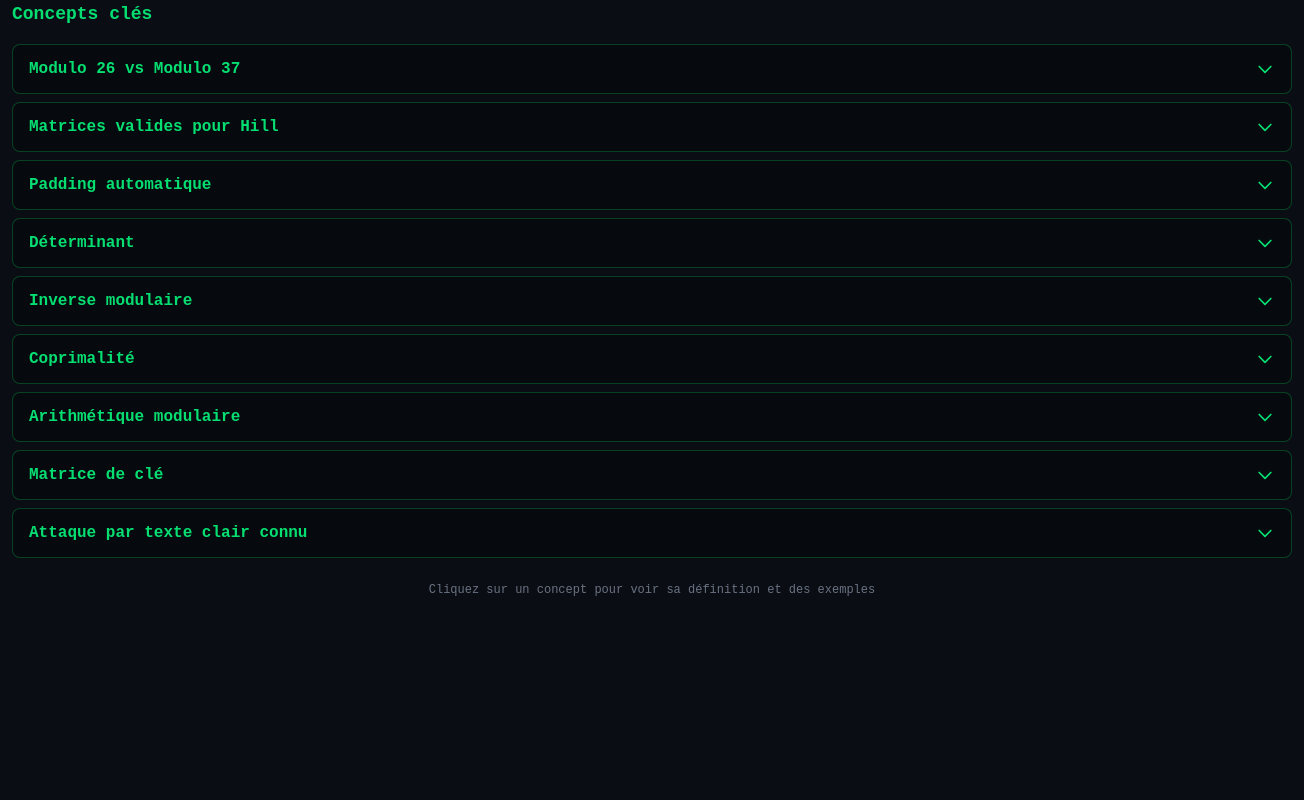
Test: ConceptExplainer › only one concept is expanded at a time
Note: Expand first concept
Click the button "Déterminant".
click(82, 243)  # box x1=13 y1=219 x2=1291 y2=267
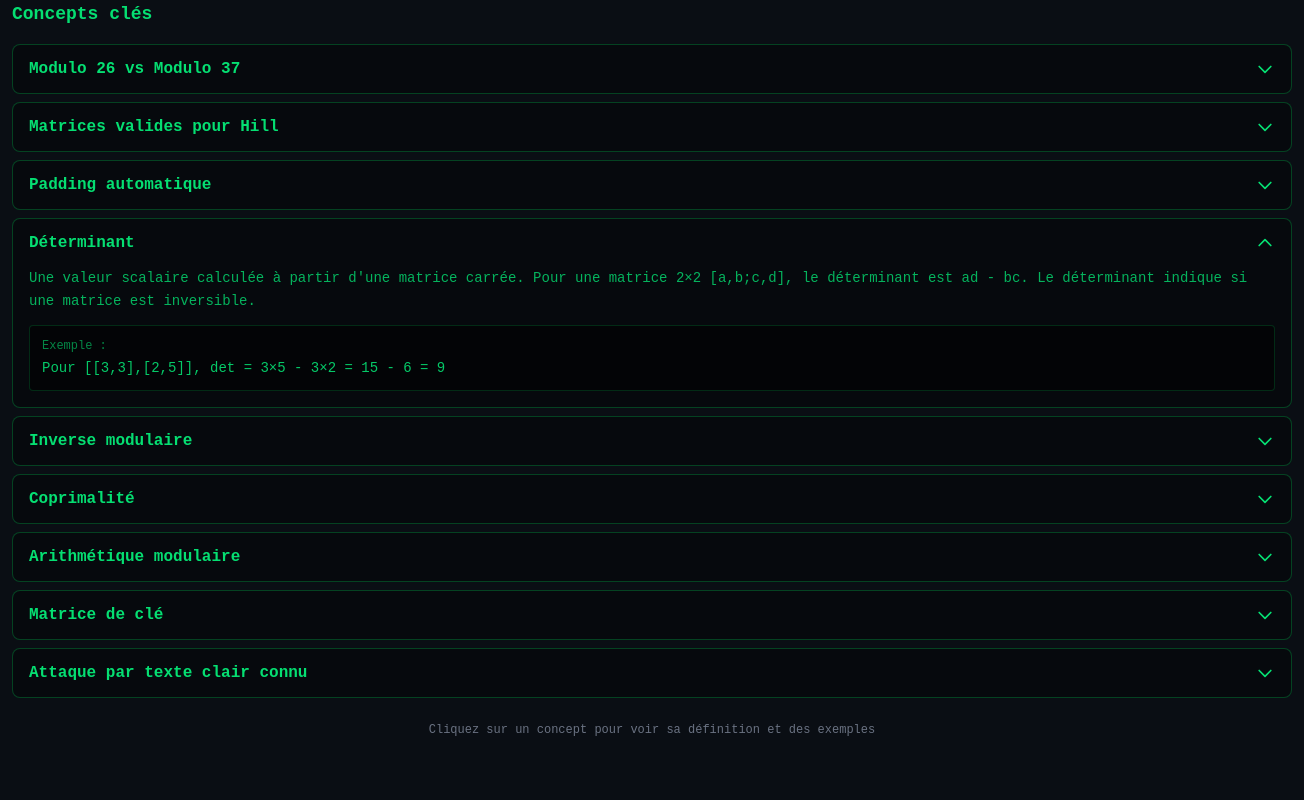
Check: the text "Une valeur scalaire calculée" is shown, box x1=29 y1=270 x2=1247 y2=309
Note: Expand second concept
Click the button "Inverse modulaire".
click(111, 440)  # box x1=13 y1=416 x2=1291 y2=464
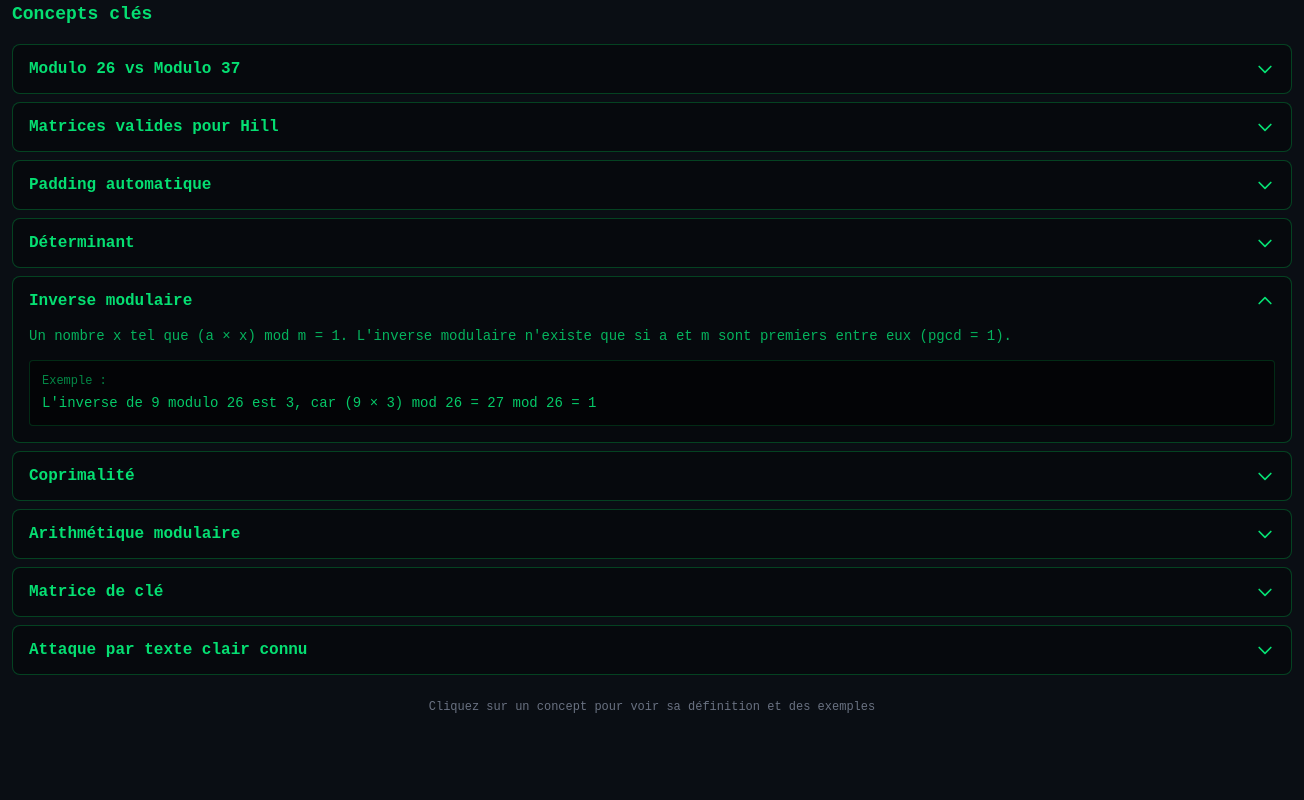
Check: the text "Un nombre x tel que" is shown, box x1=29 y1=328 x2=1012 y2=344
Check: the text "Une valeur scalaire calculée" is gone
